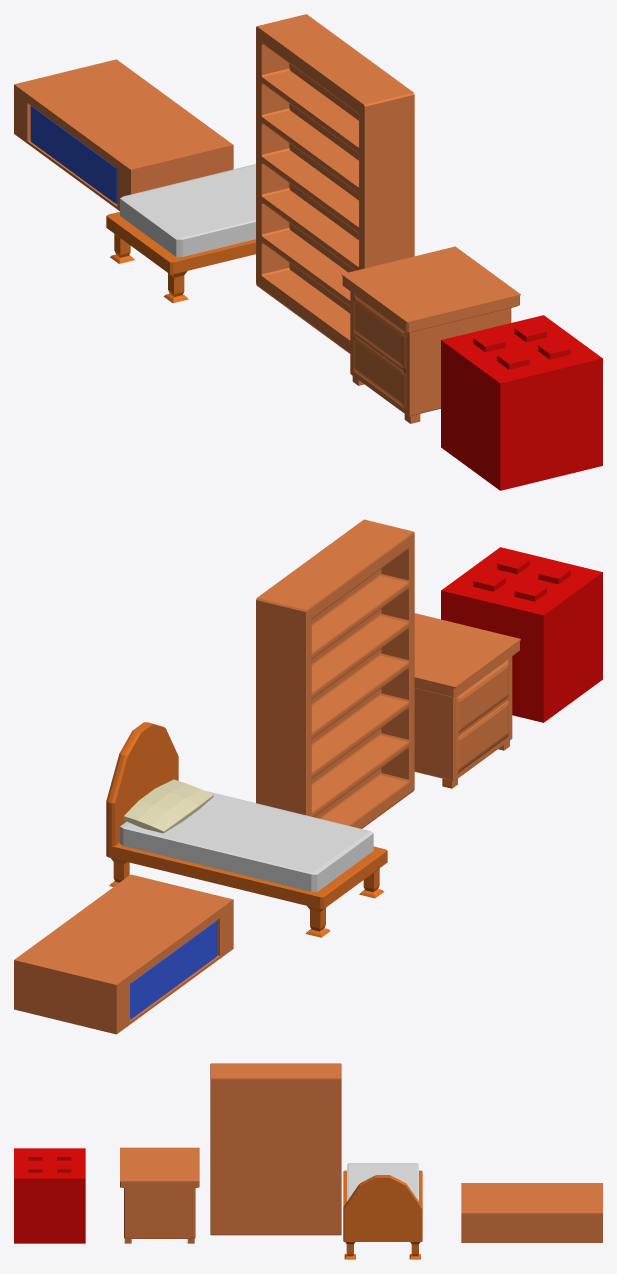
The model's file is models.fbx.
The picture shows the model from 3 angles, top to bottom: view 1: azimuth 30°, elevation 25°; view 2: azimuth 150°, elevation 25°; view 3: azimuth 270°, elevation 25°; orthographic projection. The views are drawn at different scales.
Parts seen in each view (by area): view 1: Bookcase, Brick, CoffeTable, BedsideTable, Bed; view 2: Bookcase, Bed, CoffeTable, Brick, BedsideTable; view 3: Bookcase, CoffeTable, BedsideTable, Brick, Bed.
Boxes of the visible parts, x1,y1,x2,y2 form: Bookcase: (256,14,414,353); Brick: (441,315,602,490); CoffeTable: (14,59,233,210); BedsideTable: (341,246,520,423); Bed: (106,164,255,303); Bookcase: (256,519,414,828); Bed: (106,722,387,937); CoffeTable: (14,874,233,1034); Brick: (441,547,602,722); BedsideTable: (414,613,520,788); Bookcase: (210,1063,341,1235); CoffeTable: (461,1183,602,1242); BedsideTable: (120,1147,199,1243); Brick: (14,1148,85,1243); Bed: (343,1163,422,1259).
Bounding box in the file's own units: 4.24 × 4.86 × 16.42.
